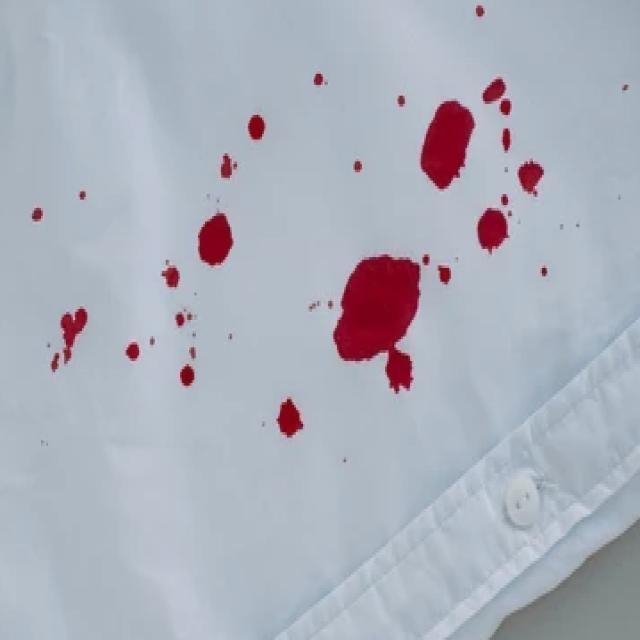blood: (116, 206, 258, 394), (419, 79, 550, 255), (329, 247, 427, 396)
